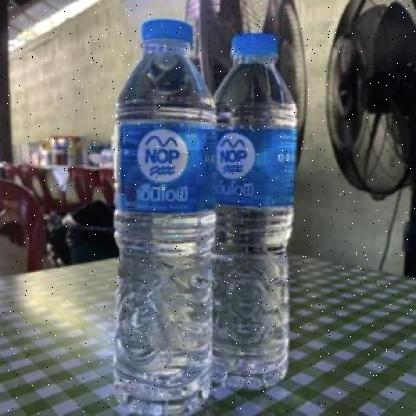Plastic Bottle: (114, 19, 216, 416), (213, 33, 298, 394)
